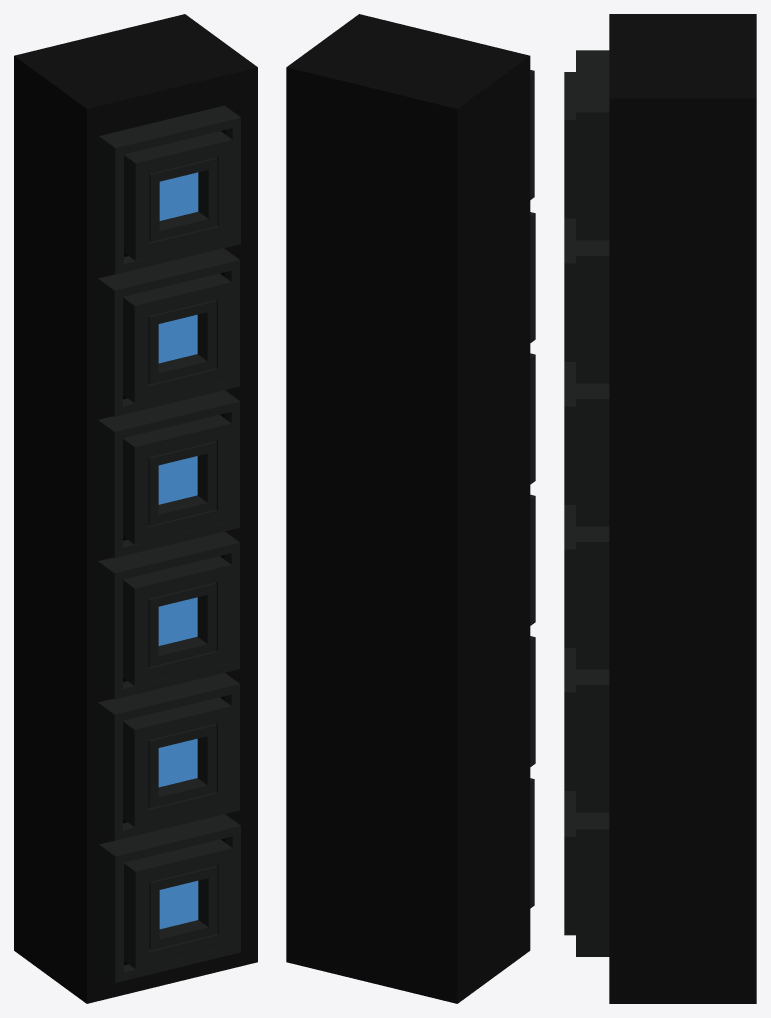
Rendered from Six_Receptor.fbx.
3 views of the same model, side by side, from view 1: azimuth 30°, elevation 25°; view 2: azimuth 150°, elevation 25°; view 3: azimuth 270°, elevation 25° (orthographic).
Parts seen in each view (by area): view 1: Six_Receptor; view 2: Six_Receptor; view 3: Six_Receptor.
Part boxes in pixels (left/top/right/bottom): Six_Receptor: left=14, top=14, right=257, bottom=1003; Six_Receptor: left=286, top=14, right=535, bottom=1003; Six_Receptor: left=564, top=14, right=756, bottom=1003.
Bounding box in the file's own units: 13.26 × 66.28 × 12.77.
